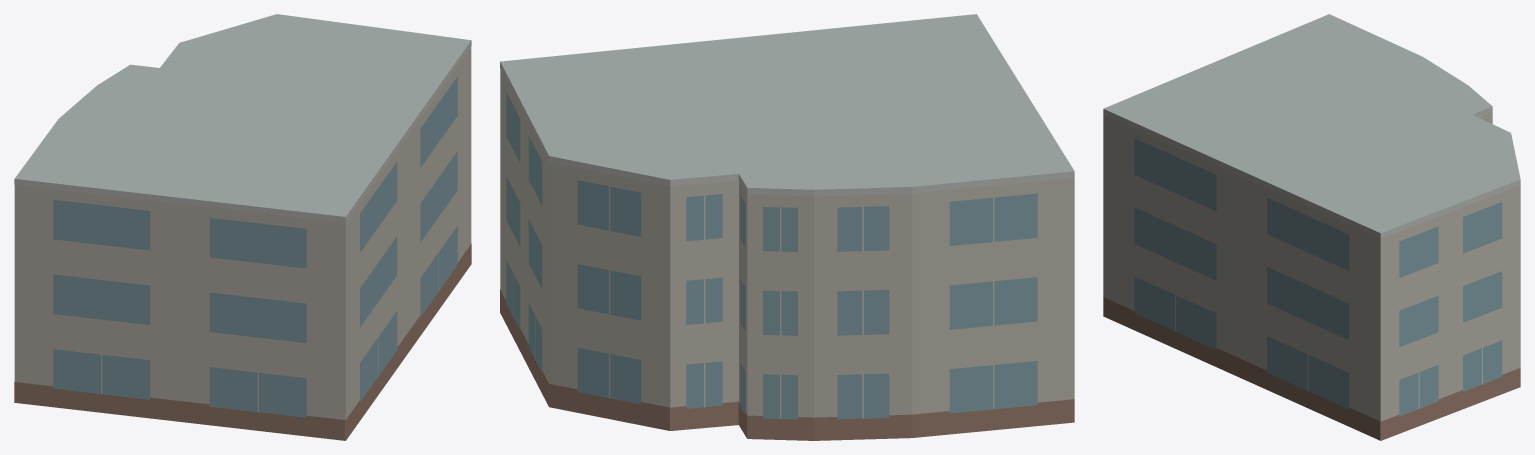
The model's file is survey-upis-32600372.glb.
3 renders of one model, left to right at view 1: azimuth 30°, elevation 25°; view 2: azimuth 150°, elevation 25°; view 3: azimuth 270°, elevation 25°, orthographic. The views are drawn at different scales.
Parts seen in each view (by area): view 1: survey-upis-32600372.tmp; view 2: survey-upis-32600372.tmp; view 3: survey-upis-32600372.tmp.
Part boxes in pixels (x1,y1,x2,y2): survey-upis-32600372.tmp: (14,14,471,440); survey-upis-32600372.tmp: (500,14,1074,440); survey-upis-32600372.tmp: (1103,14,1520,440).
Bounding box in the file's own units: 20.73 × 9.15 × 16.68.
